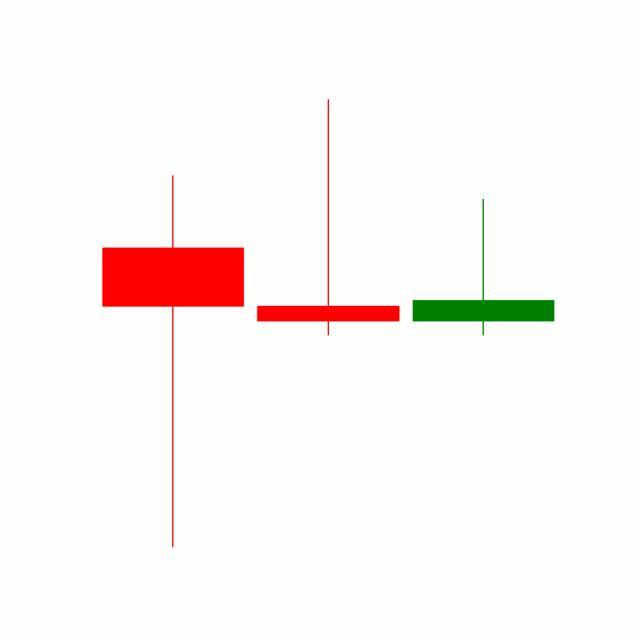Gravestone Doji: (406, 198, 562, 339)
